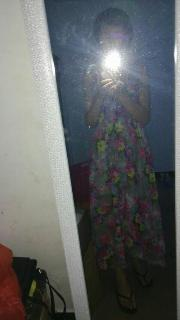sling: (89, 61, 167, 273)
